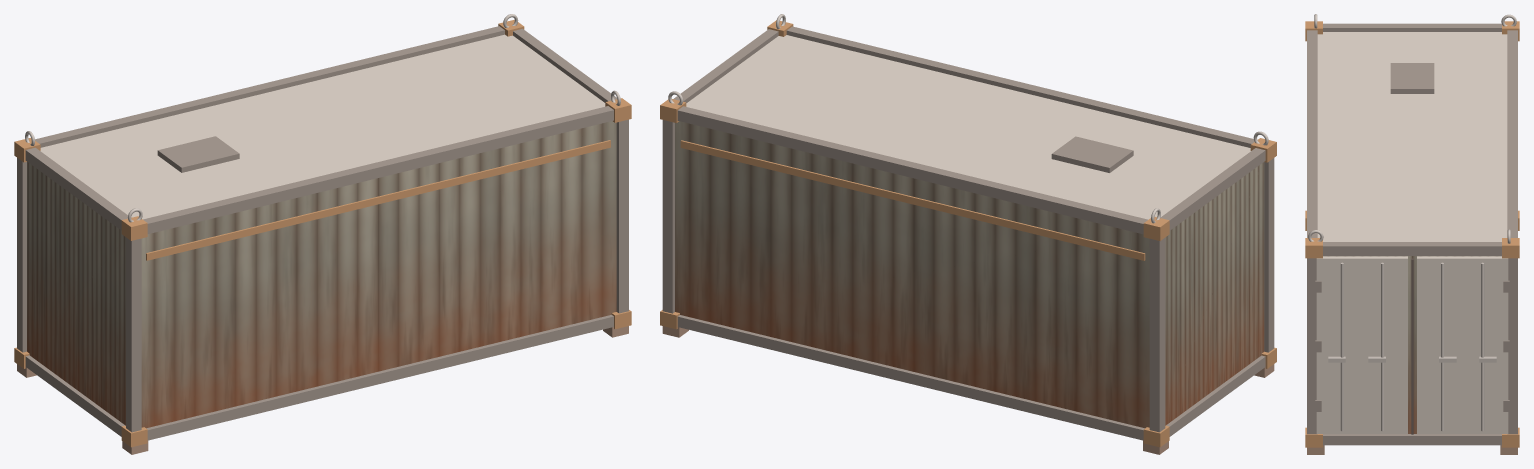
The model's file is D03_cargo_container_6m.glb.
3 views of the same model, side by side, from view 1: azimuth 30°, elevation 25°; view 2: azimuth 150°, elevation 25°; view 3: azimuth 270°, elevation 25° (orthographic). The views are drawn at different scales.
Parts seen in each view (by area): view 1: container_body, frame_rail (×6), corner_post (×3), accent_stripe, roof_vent; view 2: container_body, frame_rail (×6), corner_post (×3), accent_stripe, roof_vent; view 3: container_body, door_leaf (×2), frame_rail (×5), corner_post (×2), lock_rod (×4), roof_vent, corner_casting (×4), door_seal.
Part boxes in pixels (bbox=[...]): container_body: bbox=[27, 34, 616, 428]; frame_rail (×6): bbox=[25, 26, 617, 440]; corner_post (×3): bbox=[17, 119, 628, 432]; accent_stripe: bbox=[146, 140, 610, 260]; roof_vent: bbox=[157, 136, 239, 172]; container_body: bbox=[675, 35, 1264, 428]; frame_rail (×6): bbox=[673, 26, 1265, 440]; corner_post (×3): bbox=[662, 120, 1274, 432]; accent_stripe: bbox=[680, 140, 1145, 260]; roof_vent: bbox=[1051, 136, 1133, 172]; container_body: bbox=[1317, 32, 1507, 433]; door_leaf (×2): bbox=[1316, 256, 1508, 433]; frame_rail (×5): bbox=[1307, 23, 1517, 445]; corner_post (×2): bbox=[1307, 258, 1517, 434]; lock_rod (×4): bbox=[1340, 262, 1484, 431]; roof_vent: bbox=[1390, 63, 1434, 93]; corner_casting (×4): bbox=[1305, 238, 1519, 447]; door_seal: bbox=[1411, 258, 1413, 434].
Size of the model in its own units: 6.1 by 2.78 by 2.44.
Materials: 7 (1 with a texture image).
